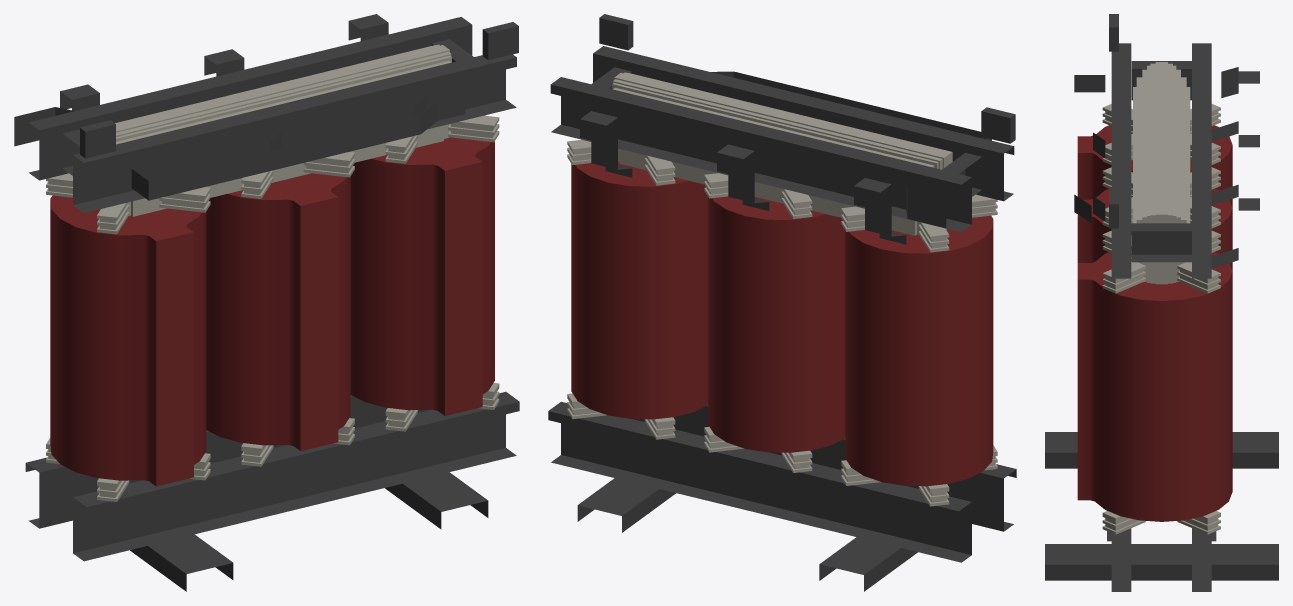
Rendered from TRANSFORMER.gltf.
The picture shows the model from 3 angles, left to right: view 1: azimuth 30°, elevation 25°; view 2: azimuth 150°, elevation 25°; view 3: azimuth 270°, elevation 25°; orthographic projection. The views are drawn at different scales.
Parts seen in each view (by area): view 1: Circle087, Rectangle195, Rectangle196, Line018; view 2: Circle087, Rectangle195, Rectangle196, Line018; view 3: Circle087, Rectangle195, Rectangle196, Line018.
Part boxes in pixels (x1=…): Circle087: x1=50, y1=115, x2=494, y2=486; Rectangle195: x1=14, y1=14, x2=519, y2=591; Rectangle196: x1=99, y1=44, x2=451, y2=216; Line018: x1=46, y1=115, x2=499, y2=501; Circle087: x1=571, y1=161, x2=993, y2=486; Rectangle195: x1=548, y1=14, x2=1016, y2=591; Rectangle196: x1=612, y1=72, x2=952, y2=235; Line018: x1=567, y1=139, x2=997, y2=506; Circle087: x1=1077, y1=125, x2=1232, y2=521; Rectangle195: x1=1045, y1=14, x2=1278, y2=591; Rectangle196: x1=1133, y1=62, x2=1190, y2=284; Line018: x1=1102, y1=104, x2=1220, y2=534.
Size of the model in its own units: 1.8 by 1.79 by 0.9364.
